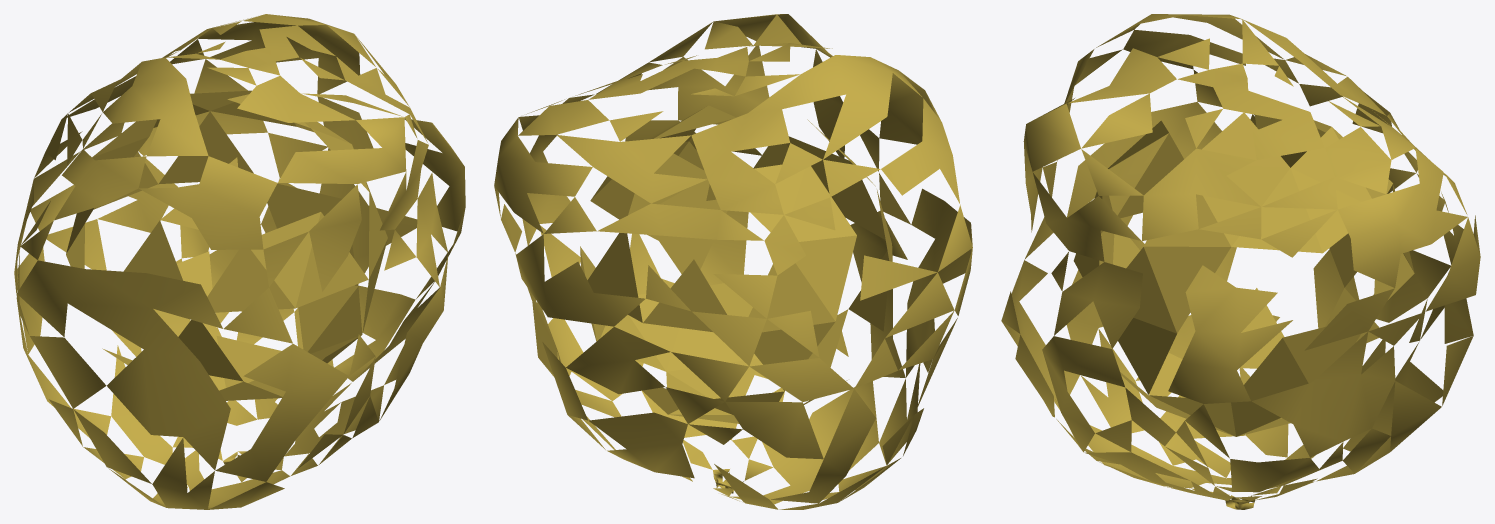
Rendered from BalloonPOP_YELLOW.fbx.
3 views of the same model, side by side, from view 1: azimuth 30°, elevation 25°; view 2: azimuth 150°, elevation 25°; view 3: azimuth 270°, elevation 25° (orthographic). The views are drawn at different scales.
Visible parts, largest first — view 1: Balloon; view 2: Balloon; view 3: Balloon.
Part boxes in pixels (<box>): Balloon: <box>14,14,465,509</box>; Balloon: <box>494,14,972,509</box>; Balloon: <box>1001,14,1480,509</box>.
Bounding box in the file's own units: 116 × 110 × 105.
